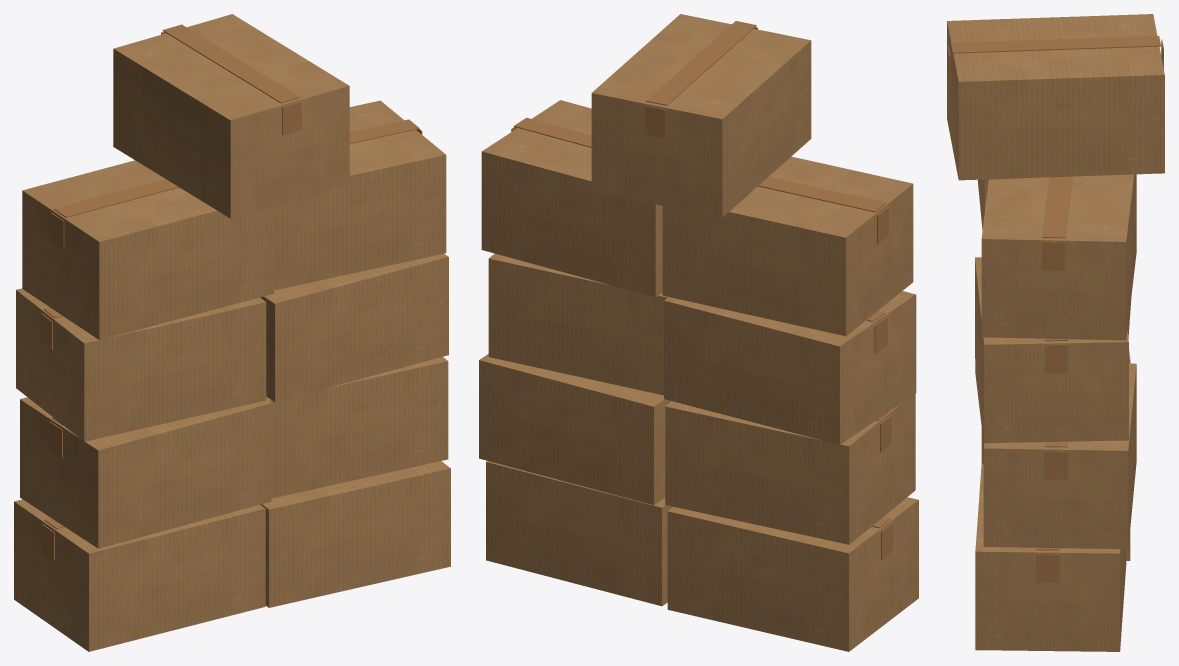
The model's file is drinkcartons.glb.
3 renders of one model, left to right at view 1: azimuth 30°, elevation 25°; view 2: azimuth 150°, elevation 25°; view 3: azimuth 270°, elevation 25°, orthographic.
Visible parts, largest first — view 1: Carton8, Carton6, Carton2, Carton0, Carton4, Carton1, Carton7, Carton5, Carton3, Cube.024, Cube.018, Cube.021; view 2: Carton8, Carton6, Carton4, Carton0, Carton2, Carton7, Carton3, Carton1, Carton5, Cube.024, Cube.018, Cube.021 (+1 smaller); view 3: Carton8, Carton7, Carton3, Carton5, Carton1, Cube.024, Cube.021, Cube.016, Cube.022, Cube.010, Cube.004.
Boxes of the visible parts, <box> form: Carton8: <box>113,14,349,218</box>; Carton6: <box>22,160,273,340</box>; Carton2: <box>20,397,271,548</box>; Carton0: <box>14,499,265,651</box>; Carton4: <box>16,288,266,441</box>; Carton1: <box>260,461,450,607</box>; Carton7: <box>274,100,446,290</box>; Carton5: <box>260,253,448,401</box>; Carton3: <box>266,357,448,498</box>; Cube.024: <box>162,24,300,103</box>; Cube.018: <box>53,179,179,217</box>; Cube.021: <box>349,119,419,143</box>; Carton8: <box>591,14,811,217</box>; Carton6: <box>662,156,913,336</box>; Carton4: <box>664,291,916,444</box>; Carton0: <box>667,497,918,651</box>; Carton2: <box>665,393,915,544</box>; Carton7: <box>481,100,662,297</box>; Carton3: <box>479,354,671,505</box>; Carton1: <box>486,461,673,606</box>; Carton5: <box>488,253,672,395</box>; Cube.024: <box>646,21,756,105</box>; Cube.018: <box>758,177,885,212</box>; Cube.021: <box>514,117,591,147</box>; Carton8: <box>947,14,1164,180</box>; Carton7: <box>981,174,1136,340</box>; Carton3: <box>983,363,1136,549</box>; Carton5: <box>975,257,1128,443</box>; Carton1: <box>975,464,1126,651</box>; Cube.024: <box>951,36,1160,53</box>; Cube.021: <box>1042,176,1072,238</box>; Cube.016: <box>1045,344,1068,373</box>; Cube.022: <box>1042,241,1065,270</box>; Cube.010: <box>1044,450,1067,479</box>; Cube.004: <box>1036,553,1059,582</box>.
Bounding box in the file's own units: 0.8321 × 1.11 × 0.4211.
7 materials, 6 textured.
